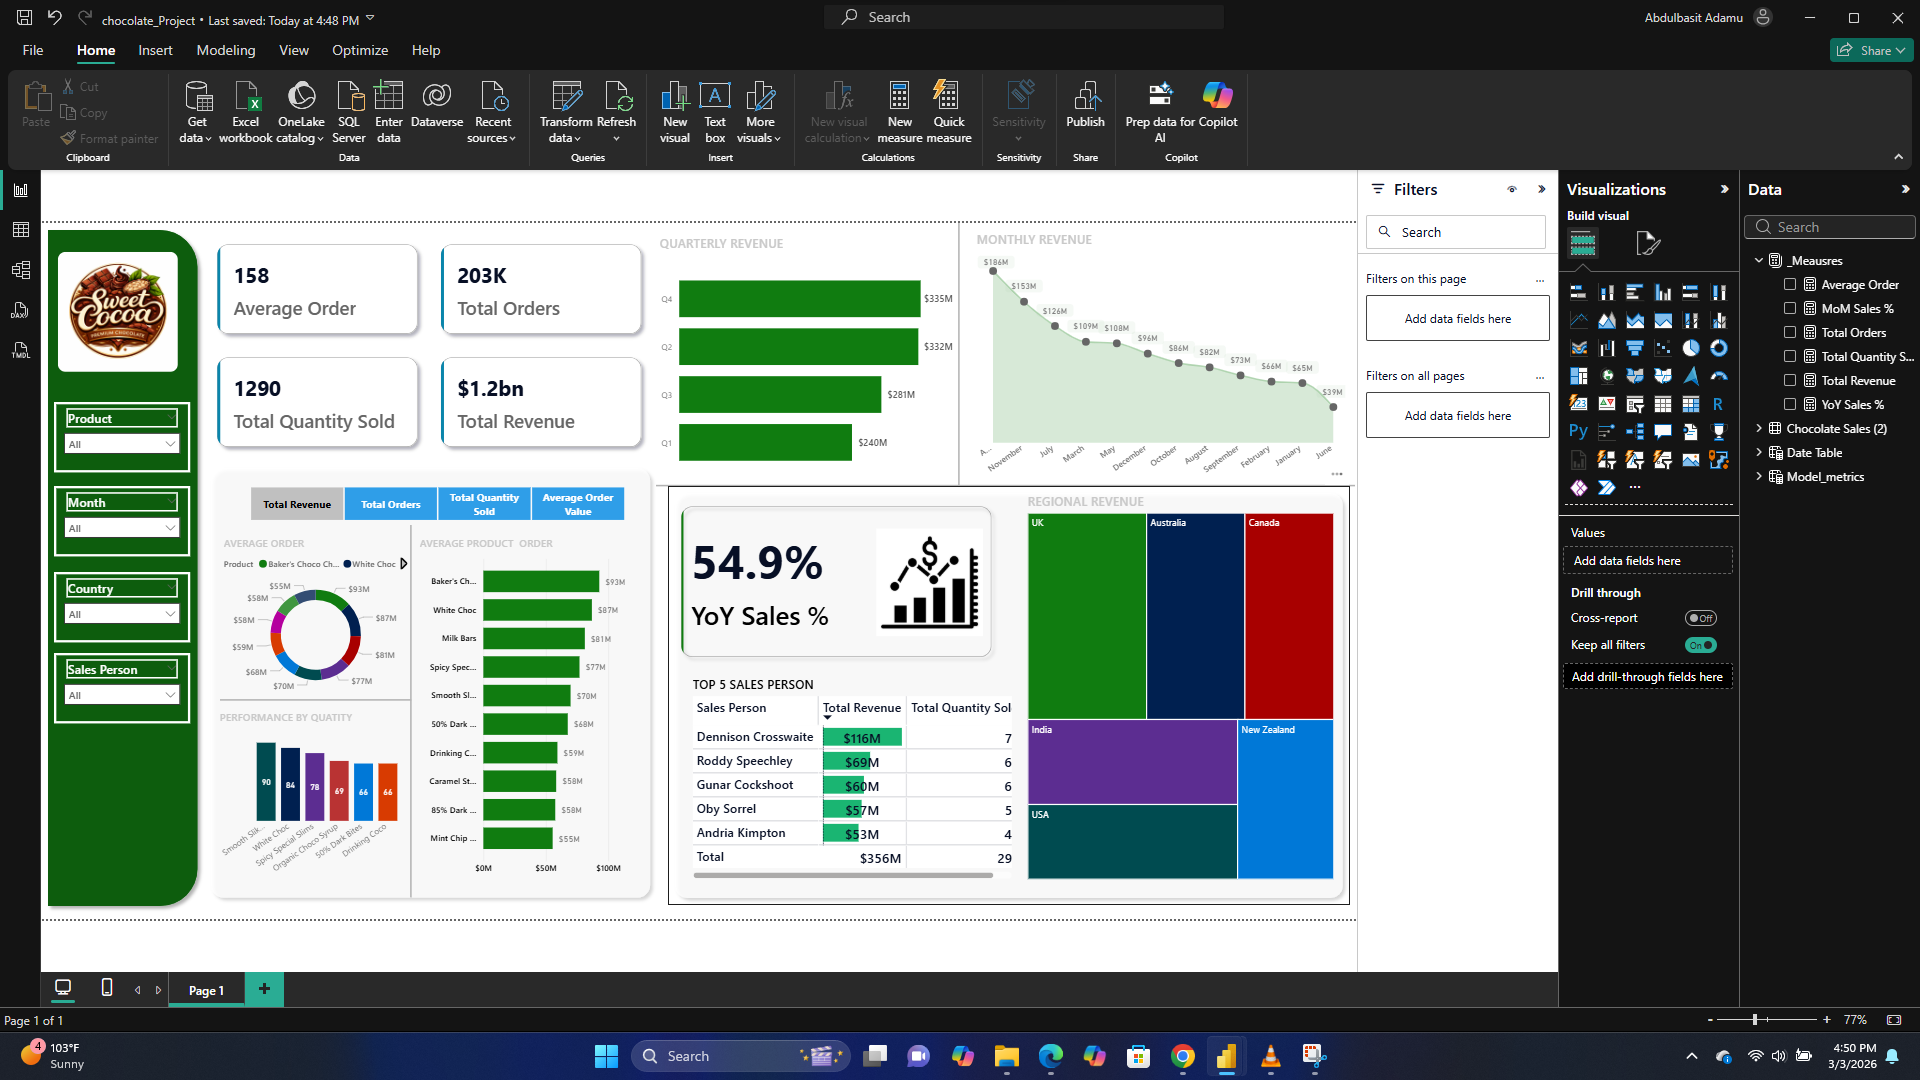

What the dashboard file says about the page in this screenshot:
{"tool":"powerbi","page":{"name":"Page 1","canvas":[1700,900],"ordinal":0},"visuals":[{"type":"cardVisual","fields":{"Data":["_Meausres.Average Order Value","_Meausres.Total Orders","_Meausres.Total Quantity Sold","_Meausres.Total Revenue"]},"box":[211.2,10.7,582.7,296.7],"z":0},{"type":"shape","box":[211.2,307.4,585.4,573.3],"z":1000},{"type":"areaChart","title":"MONTHLY REVENUE","fields":{"Category":["Date Table.Month"],"Y":["_Meausres.Total Revenue"]},"box":[1204.2,10.7,486.5,323.4],"z":2000},{"type":"barChart","title":"QUARTERLY REVENUE","fields":{"Y":["_Meausres.Total Revenue"],"Category":["Date Table.Quarter"]},"box":[793.9,16,388.9,323.4],"z":3000},{"type":"barChart","title":"AVERAGE PRODUCT  ORDER","fields":{"Y":["_Meausres.Total Revenue"],"Category":["Chocolate Sales (2).Product"]},"box":[483.8,405,294,447.7],"z":4000},{"type":"donutChart","title":"AVERAGE ORDER","fields":{"Y":["_Meausres.Total Revenue"],"Category":["Chocolate Sales (2).Product"]},"box":[231.2,405,247.2,211.2],"z":5000},{"type":"columnChart","title":"PERFORMANCE BY QUATITY","fields":{"Category":["Chocolate Sales (2).Product"],"Y":["_Meausres.Total Quantity Sold"],"Series":["Chocolate Sales (2).Product"]},"box":[225.9,629.5,252.6,223.2],"z":6000},{"type":"slicer","fields":{"Values":["Model_metrics.Model_metrics"]},"box":[245.9,334.1,531.9,50.8],"z":7000},{"type":"shape","box":[0,0,211.2,891.4],"z":8000},{"type":"slicer","fields":{"Values":["Chocolate Sales (2).Product"]},"box":[17.4,231.2,176.4,90.9],"z":9000},{"type":"slicer","fields":{"Values":["Date Table.Month"]},"box":[17.4,339.5,176.4,90.9],"z":10000},{"type":"slicer","fields":{"Values":["Chocolate Sales (2).Country"]},"box":[17.4,450.4,176.4,90.9],"z":11000},{"type":"slicer","fields":{"Values":["Chocolate Sales (2).Sales Person"]},"box":[17.4,556,176.4,90.9],"z":12000},{"type":"shape","box":[443.7,390.3,69.5,481.1],"z":13000},{"type":"shape","box":[231.2,561.3,247.2,108.3],"z":14000},{"type":"shape","box":[1150.7,0,69.5,339.5],"z":15000},{"type":"shape","box":[793.9,316.7,903.5,45.4],"z":16000},{"type":"shape","box":[809.9,339.5,880.7,541.3],"z":17000},{"type":"pivotTable","title":"TOP 5 SALES PERSON","fields":{"Rows":["Chocolate Sales (2).Sales Person"],"Values":["_Meausres.Total Revenue","_Meausres.Total Quantity Sold"]},"box":[837.1,585.2,422.4,267.4],"z":18000},{"type":"treemap","title":"REGIONAL REVENUE","fields":{"Values":["_Meausres.Total Revenue"],"Group":["Chocolate Sales (2).Country"]},"box":[1269.7,348.8,405,503.9],"z":19000},{"type":"cardVisual","fields":{"Data":["_Meausres.YoY Sales &"]},"box":[810,348.8,435.3,229.9],"z":20000},{"type":"image","box":[16.8,32.3,165.3,165.3],"z":21000}]}

Visuals, with their boxes on the page's 1700x900 design canvas (x1, y1, x2, y2). These are canvas units, not pixel positions in the 1920x1080 screenshot, which may show the page scaled, cropped or inside an application window:
cardVisual - _Meausres.Average Order Value x _Meausres.Total Orders: l=211, t=11, r=794, b=307
shape: l=211, t=307, r=797, b=881
"MONTHLY REVENUE" areaChart: l=1204, t=11, r=1691, b=334
"QUARTERLY REVENUE" barChart: l=794, t=16, r=1183, b=339
"AVERAGE PRODUCT  ORDER" barChart: l=484, t=405, r=778, b=853
"AVERAGE ORDER" donutChart: l=231, t=405, r=478, b=616
"PERFORMANCE BY QUATITY" columnChart: l=226, t=630, r=478, b=853
slicer - Model_metrics.Model_metrics: l=246, t=334, r=778, b=385
shape: l=0, t=0, r=211, b=891
slicer - Chocolate Sales (2).Product: l=17, t=231, r=194, b=322
slicer - Date Table.Month: l=17, t=340, r=194, b=430
slicer - Chocolate Sales (2).Country: l=17, t=450, r=194, b=541
slicer - Chocolate Sales (2).Sales Person: l=17, t=556, r=194, b=647
shape: l=444, t=390, r=513, b=871
shape: l=231, t=561, r=478, b=670
shape: l=1151, t=0, r=1220, b=340
shape: l=794, t=317, r=1697, b=362
shape: l=810, t=340, r=1691, b=881
"TOP 5 SALES PERSON" pivotTable: l=837, t=585, r=1260, b=853
"REGIONAL REVENUE" treemap: l=1270, t=349, r=1675, b=853
cardVisual - _Meausres.YoY Sales &: l=810, t=349, r=1245, b=579
image: l=17, t=32, r=182, b=198
